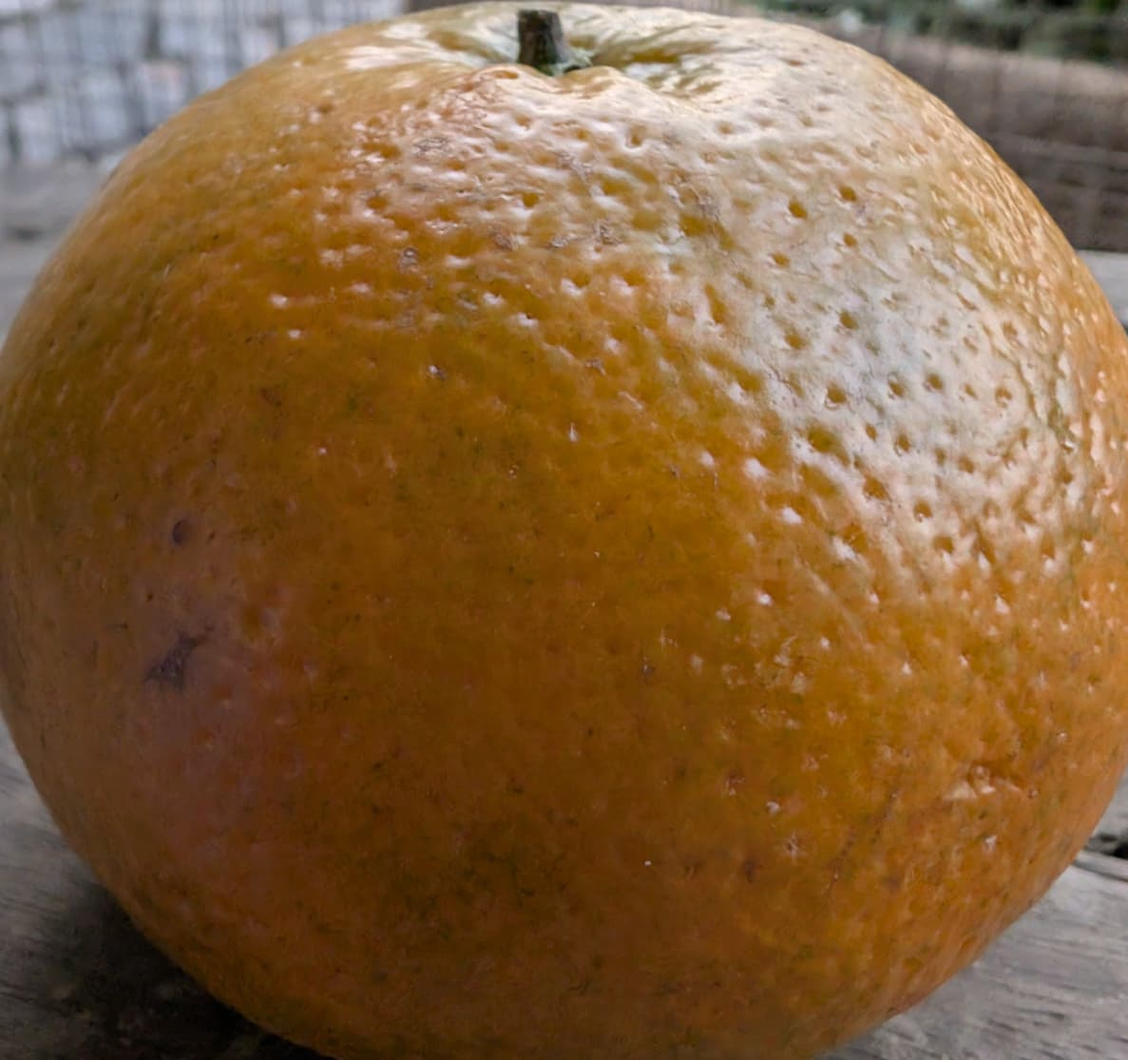orange: (143, 0, 982, 938)
